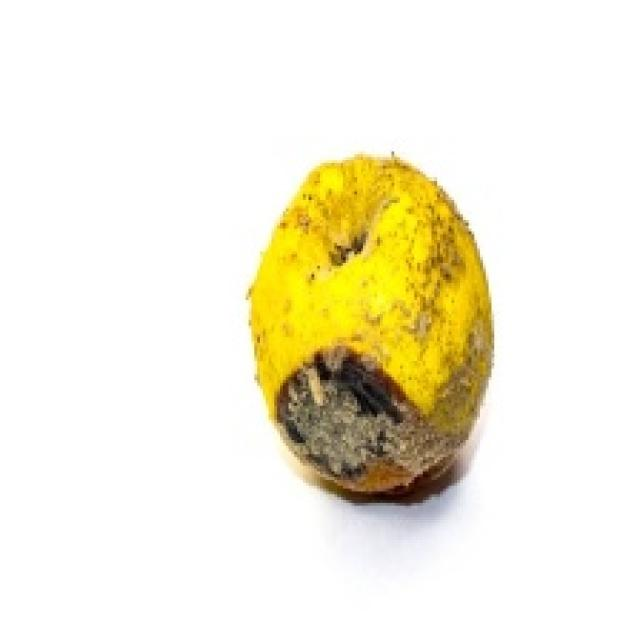rotten_apple: (257, 160, 488, 488)
